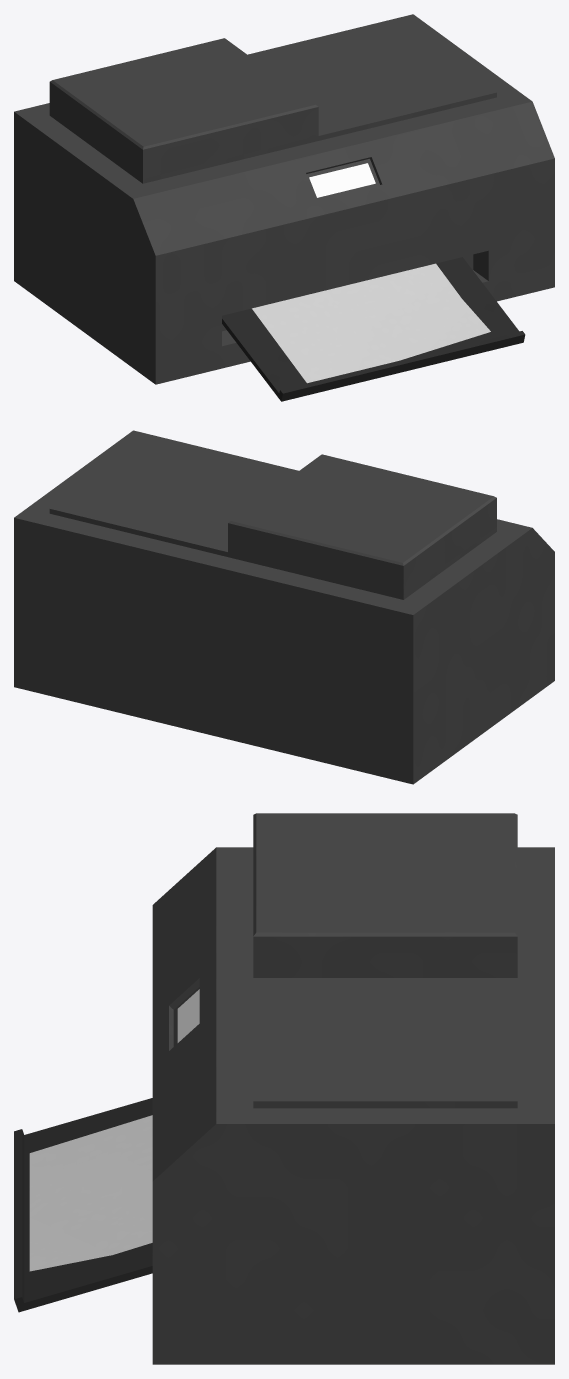
Rendered from Printer.fbx.
3 renders of one model, top to bottom at view 1: azimuth 30°, elevation 25°; view 2: azimuth 150°, elevation 25°; view 3: azimuth 270°, elevation 25°, orthographic. The views are drawn at different scales.
Visible parts, largest first — view 1: Printer; view 2: Printer; view 3: Printer.
Part boxes in pixels (x1,y1,x2,y2): Printer: [14, 14, 554, 401]; Printer: [14, 430, 554, 784]; Printer: [14, 813, 554, 1364].
Size of the model in its own units: 1.13 by 0.5585 by 0.9321.
